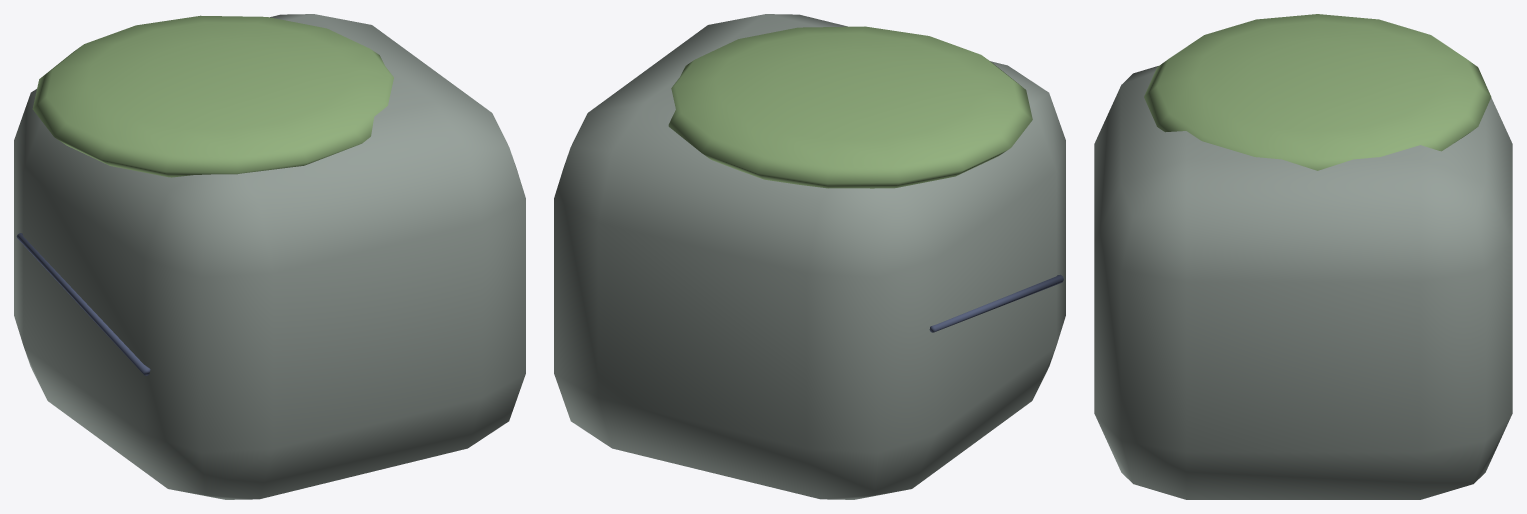
Rendered from moss_rock.glb.
3 renders of one model, left to right at view 1: azimuth 30°, elevation 25°; view 2: azimuth 150°, elevation 25°; view 3: azimuth 270°, elevation 25°, orthographic. The views are drawn at different scales.
Parts seen in each view (by area): view 1: moss_rock_mesh; view 2: moss_rock_mesh; view 3: moss_rock_mesh.
Part boxes in pixels (x1,y1,x2,y2): moss_rock_mesh: (14, 14, 525, 499); moss_rock_mesh: (554, 14, 1065, 499); moss_rock_mesh: (1094, 14, 1512, 499).
Size of the model in its own units: 1.25 by 1.12 by 1.18.
